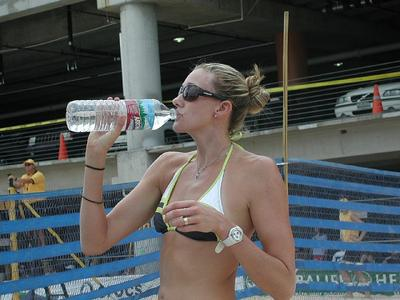person: (78, 62, 301, 300)
